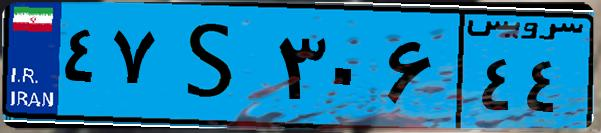0: (330, 28, 385, 110)
3: (270, 28, 330, 110)
4: (57, 26, 110, 100), (475, 38, 525, 113), (525, 38, 570, 115)
6: (385, 28, 445, 110)
7: (110, 28, 158, 98)
S: (158, 12, 270, 120)
